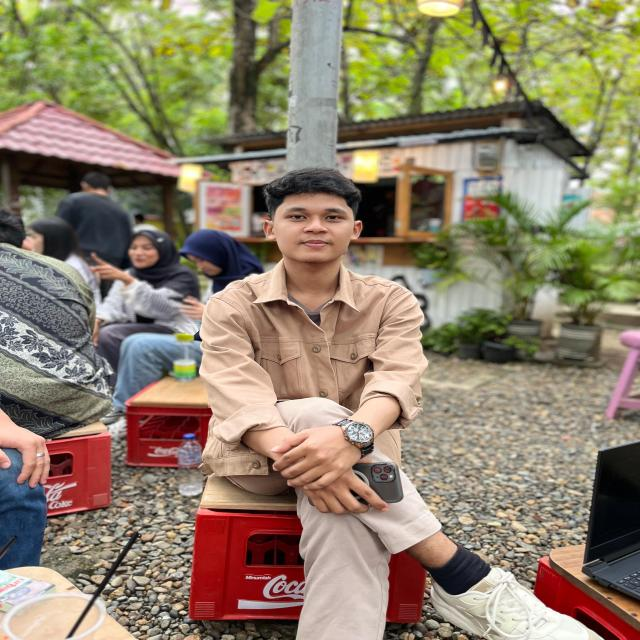nohelmet: (264, 168, 369, 272)
